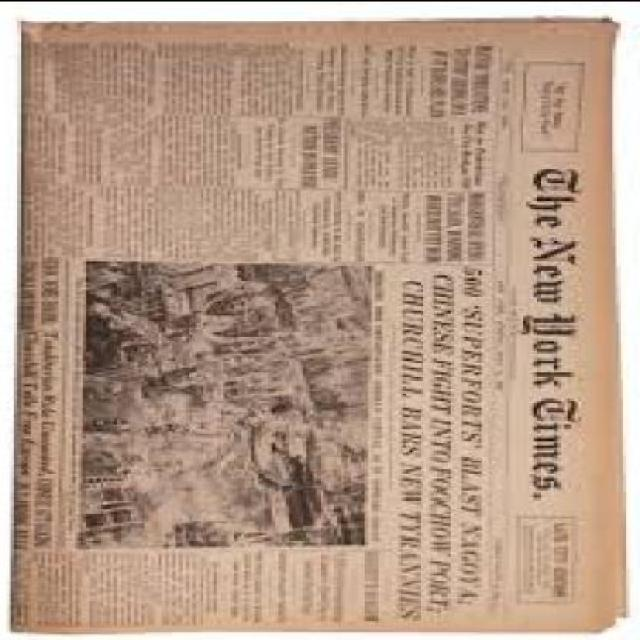PAPER: (17, 15, 623, 630)
